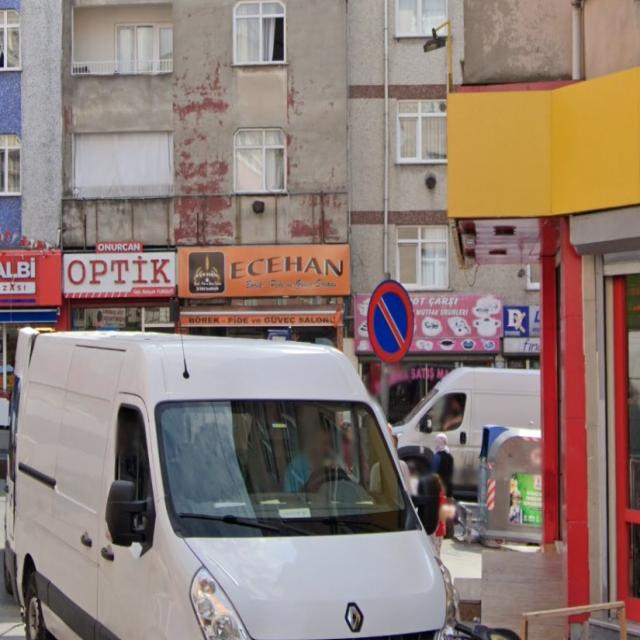parkyasak: (367, 280, 413, 362)
